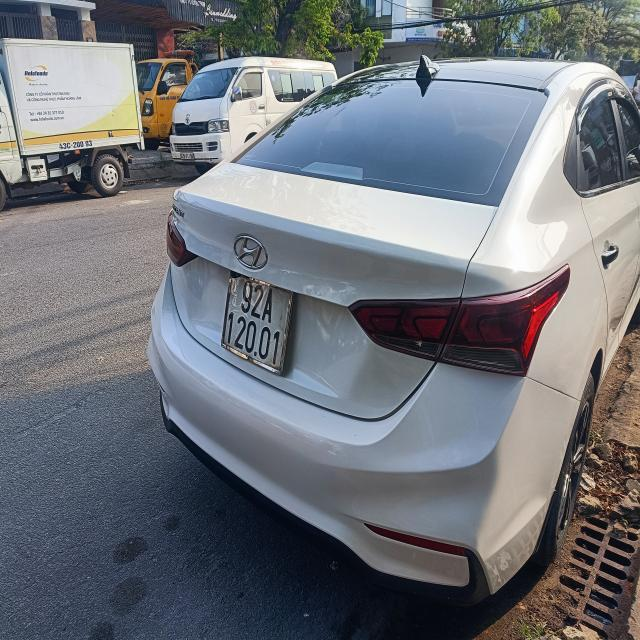car: (161, 47, 626, 578), (0, 29, 154, 214), (166, 54, 330, 179)
plate: (217, 270, 297, 377)
